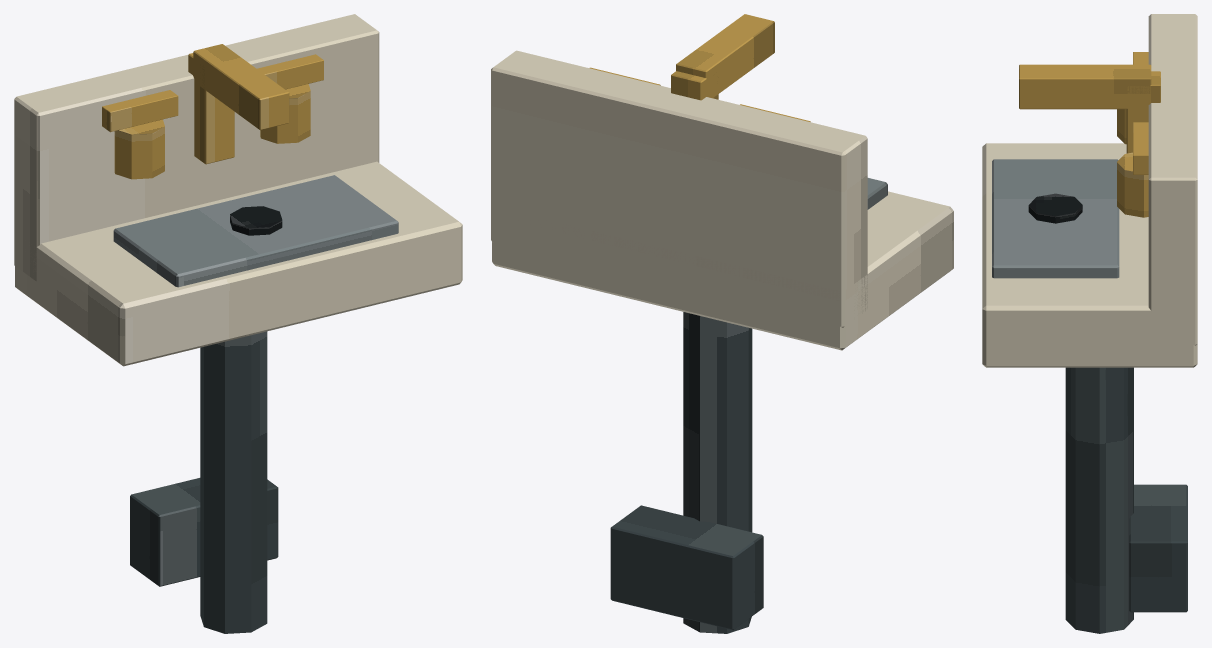
The model's file is bathroom_sink.glb.
The picture shows the model from 3 angles, left to right: view 1: azimuth 30°, elevation 25°; view 2: azimuth 150°, elevation 25°; view 3: azimuth 270°, elevation 25°; orthographic projection. The views are drawn at different scales.
Visible parts, largest first — view 1: SinkBacksplash, SinkDeck, DrainPipe, BasinInset, WallTrap, FaucetSpout, FaucetStem, TapBase_1, TapCross_1, TapBase_2, TapCross_2, Drain; view 2: SinkBacksplash, SinkDeck, WallTrap, DrainPipe, FaucetSpout, FaucetStem; view 3: SinkDeck, DrainPipe, SinkBacksplash, BasinInset, WallTrap, FaucetSpout, TapBase_2, FaucetStem, Drain, TapCross_2, TapBase_1.
Boxes of the visible parts, x1,y1,x2,y2 form: SinkBacksplash: (14, 14, 379, 281); SinkDeck: (15, 161, 462, 366); DrainPipe: (200, 331, 267, 633); BasinInset: (113, 175, 398, 287); WallTrap: (130, 478, 278, 586); FaucetSpout: (193, 44, 289, 130); FaucetStem: (188, 53, 234, 164); TapBase_1: (114, 119, 164, 179); TapCross_1: (102, 90, 178, 132); TapBase_2: (260, 84, 310, 143); TapCross_2: (257, 54, 323, 89); Drain: (230, 206, 282, 235); SinkBacksplash: (491, 50, 867, 327); SinkDeck: (492, 191, 953, 350); WallTrap: (610, 505, 763, 629); DrainPipe: (683, 312, 752, 633); FaucetSpout: (676, 14, 774, 98); FaucetStem: (671, 71, 718, 100); SinkDeck: (982, 143, 1197, 367); DrainPipe: (1065, 367, 1133, 633); SinkBacksplash: (1148, 14, 1197, 345); BasinInset: (992, 159, 1119, 278); WallTrap: (1129, 484, 1187, 612); FaucetSpout: (1019, 64, 1151, 109); TapBase_2: (1117, 152, 1148, 217); FaucetStem: (1126, 71, 1160, 153); Drain: (1028, 193, 1082, 223); TapCross_2: (1133, 122, 1148, 174); TapBase_1: (1117, 109, 1126, 144).
Bounding box in the file's own units: 0.8 × 1.23 × 0.44.
Materials: 1 (1 with a texture image).
